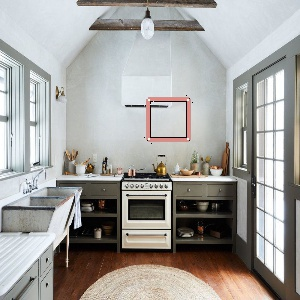square: (144, 96, 193, 143)
